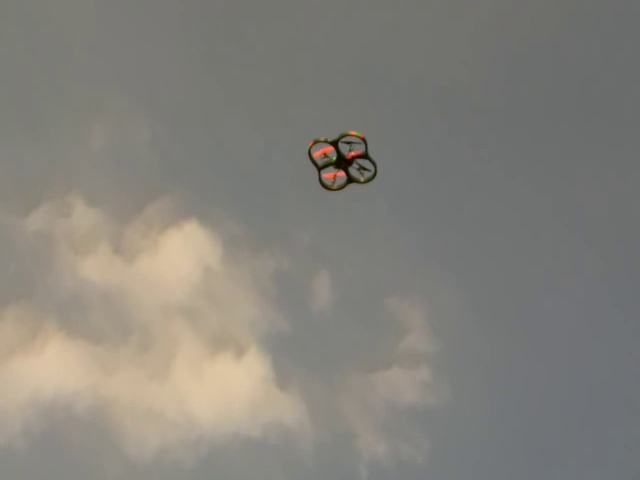drone: (303, 130, 378, 192)
